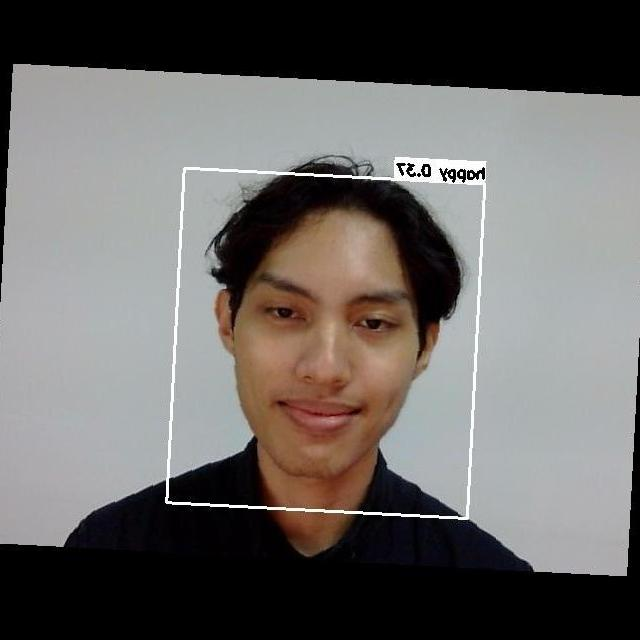Happy: (235, 255, 412, 441)
